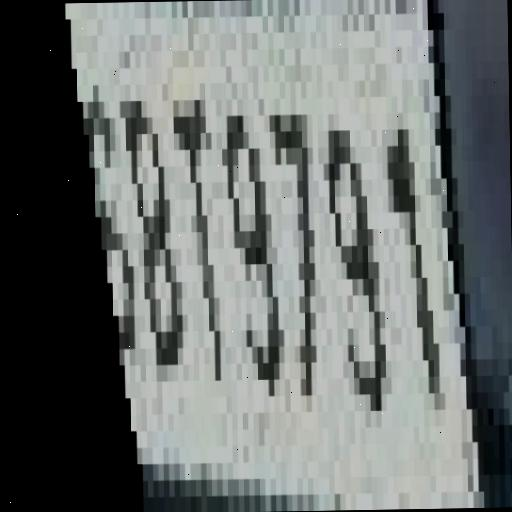number plate: (12, 29, 512, 500)
